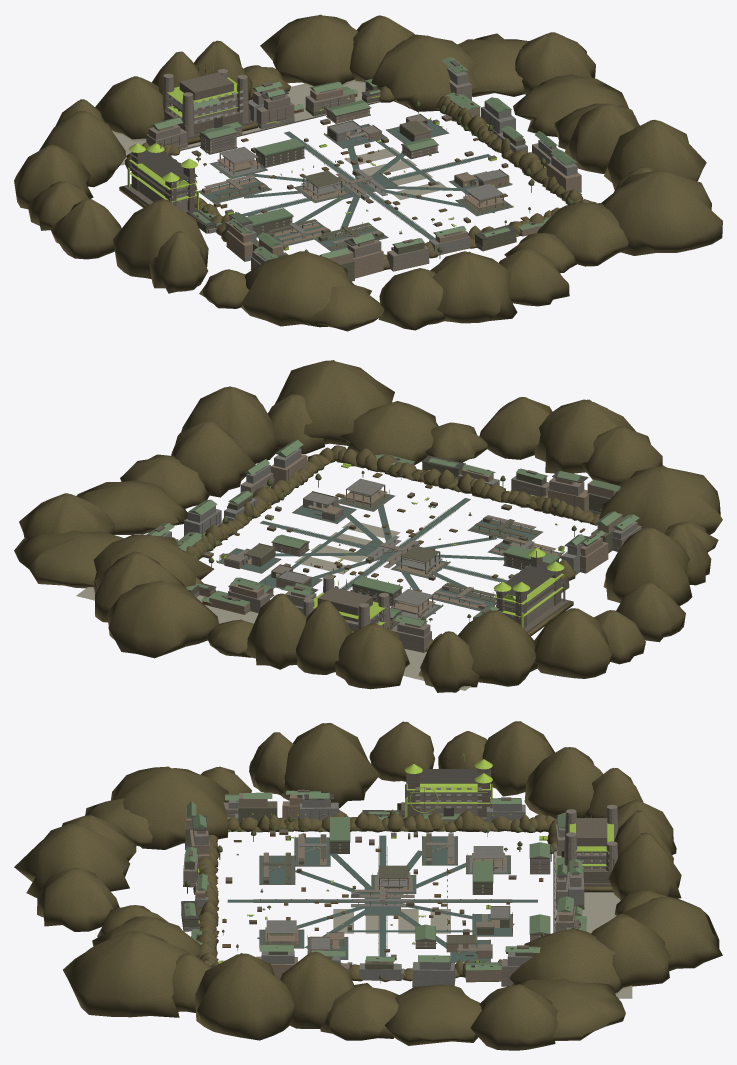
The model's file is tanada-lod0.glb.
3 renders of one model, top to bottom at view 1: azimuth 30°, elevation 25°; view 2: azimuth 150°, elevation 25°; view 3: azimuth 270°, elevation 25°, orthographic. The views are drawn at different scales.
Parts seen in each view (by area): view 1: HB_tanada_LOD0_terrain, HB_tanada_LOD0_road, HB_tanada_LOD0_wall, HB_tanada_LOD0_roof, HB_tanada_LOD0_wall_warm, HB_tanada_LOD0_wall_cool, HB_tanada_LOD0_wall_weathered, HB_tanada_LOD0_trim, HB_tanada_LOD0_water, HB_tanada_LOD0_wall_alt, HB_tanada_LOD0_LANDMARK_0_wall, HB_tanada_LOD0_LANDMARK_0_wall_alt (+6 smaller); view 2: HB_tanada_LOD0_terrain, HB_tanada_LOD0_road, HB_tanada_LOD0_wall_warm, HB_tanada_LOD0_roof, HB_tanada_LOD0_wall_cool, HB_tanada_LOD0_wall, HB_tanada_LOD0_wall_weathered, HB_tanada_LOD0_water, HB_tanada_LOD0_wall_alt, HB_tanada_LOD0_trim, HB_tanada_LOD0_LANDMARK_1_wall_alt, HB_tanada_LOD0_LANDMARK_1_accent (+6 smaller); view 3: HB_tanada_LOD0_terrain, HB_tanada_LOD0_road, HB_tanada_LOD0_wall_cool, HB_tanada_LOD0_roof, HB_tanada_LOD0_wall_warm, HB_tanada_LOD0_wall_weathered, HB_tanada_LOD0_wall, HB_tanada_LOD0_water, HB_tanada_LOD0_wall_alt, HB_tanada_LOD0_trim, HB_tanada_LOD0_LANDMARK_0_wall_alt, HB_tanada_LOD0_LANDMARK_0_wall (+6 smaller).
Part boxes in pixels (x1,y1,x2,y2): HB_tanada_LOD0_terrain: (14, 14, 722, 331); HB_tanada_LOD0_road: (199, 119, 511, 251); HB_tanada_LOD0_wall: (146, 80, 556, 270); HB_tanada_LOD0_roof: (150, 57, 577, 260); HB_tanada_LOD0_wall_warm: (154, 87, 581, 277); HB_tanada_LOD0_wall_cool: (181, 67, 581, 279); HB_tanada_LOD0_wall_weathered: (187, 67, 564, 280); HB_tanada_LOD0_trim: (159, 66, 560, 258); HB_tanada_LOD0_water: (112, 79, 446, 199); HB_tanada_LOD0_wall_alt: (162, 59, 561, 257); HB_tanada_LOD0_LANDMARK_0_wall: (162, 69, 248, 137); HB_tanada_LOD0_LANDMARK_0_wall_alt: (164, 72, 253, 139); HB_tanada_LOD0_terrain: (14, 360, 722, 692); HB_tanada_LOD0_road: (217, 494, 563, 618); HB_tanada_LOD0_wall_warm: (183, 454, 631, 627); HB_tanada_LOD0_roof: (147, 439, 639, 626); HB_tanada_LOD0_wall_cool: (162, 448, 637, 619); HB_tanada_LOD0_wall: (175, 465, 641, 652); HB_tanada_LOD0_wall_weathered: (161, 450, 615, 617); HB_tanada_LOD0_water: (76, 521, 471, 690); HB_tanada_LOD0_wall_alt: (153, 458, 632, 618); HB_tanada_LOD0_trim: (162, 455, 622, 626); HB_tanada_LOD0_LANDMARK_1_wall_alt: (493, 557, 569, 632); HB_tanada_LOD0_LANDMARK_1_accent: (493, 547, 564, 627); HB_tanada_LOD0_terrain: (14, 721, 722, 1050); HB_tanada_LOD0_road: (227, 835, 537, 961); HB_tanada_LOD0_wall_cool: (183, 795, 584, 986); HB_tanada_LOD0_roof: (181, 790, 586, 970); HB_tanada_LOD0_wall_warm: (183, 793, 574, 981); HB_tanada_LOD0_wall_weathered: (181, 795, 583, 969); HB_tanada_LOD0_wall: (183, 802, 581, 986); HB_tanada_LOD0_water: (333, 851, 632, 998); HB_tanada_LOD0_wall_alt: (188, 789, 581, 965); HB_tanada_LOD0_trim: (181, 790, 580, 983); HB_tanada_LOD0_LANDMARK_0_wall_alt: (564, 818, 614, 886); HB_tanada_LOD0_LANDMARK_0_wall: (564, 804, 618, 871).
Size of the model in its own units: 642 by 67.11 by 645.
Materials: 16 (13 with a texture image).
